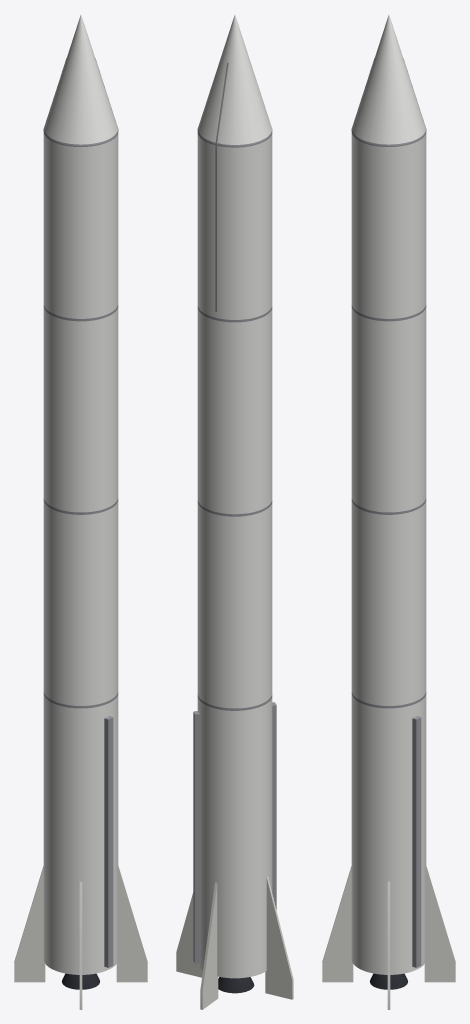
The model's file is ceres1.glb.
3 renders of one model, left to right at view 1: azimuth 90°, elevation 25°; view 2: azimuth 150°, elevation 25°; view 3: azimuth 270°, elevation 25°, orthographic.
Parts seen in each view (by area): view 1: ceres1; view 2: ceres1; view 3: ceres1.
Part boxes in pixels (<box>): ceres1: <box>14,15,147,1009</box>; ceres1: <box>176,15,293,1009</box>; ceres1: <box>322,15,455,1009</box>.
Size of the model in its own units: 2.5 by 20 by 2.5.
Materials: 1 (1 with a texture image).
